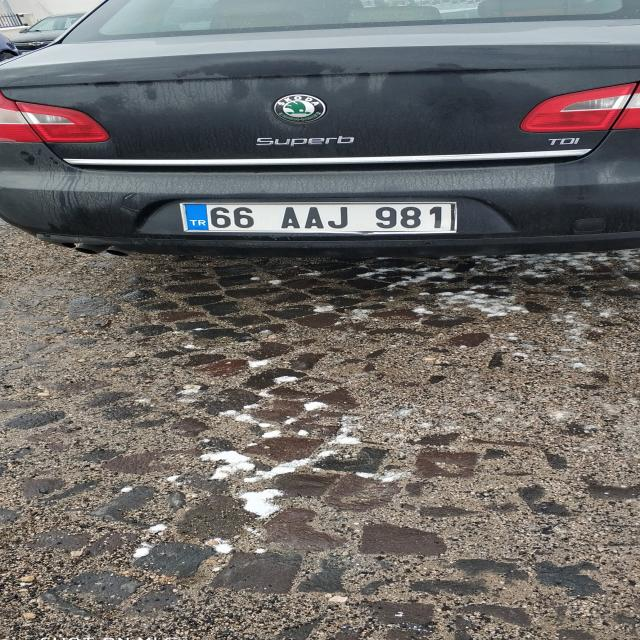plate: (182, 204, 458, 234)
